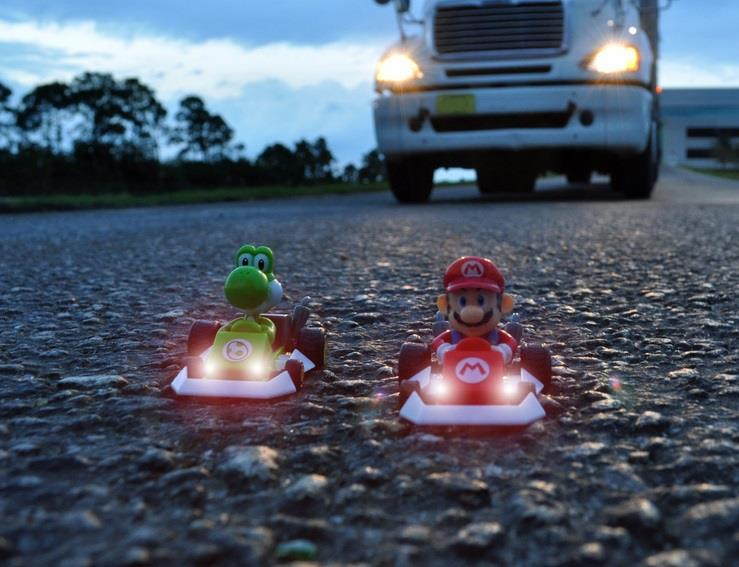mario: (406, 248, 531, 364)
